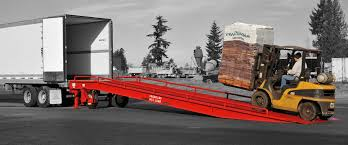Pallet Jack: (220, 44, 337, 122)
Yard Ramp: (69, 74, 337, 124)
